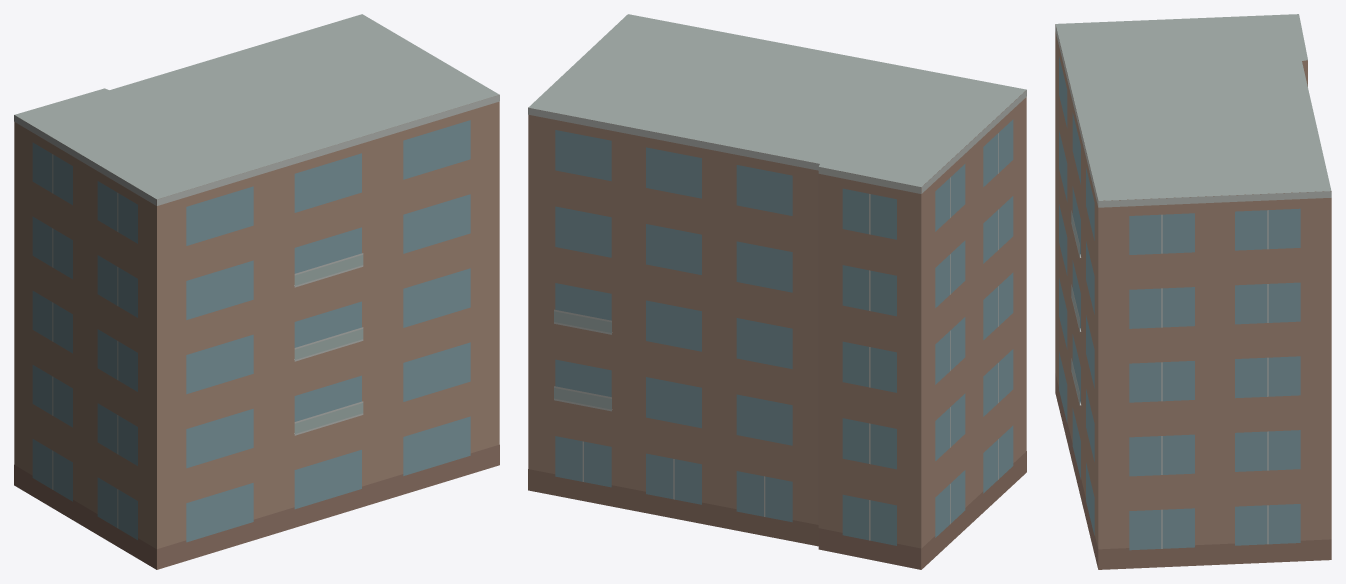
Rendered from survey-upis-32468947.glb.
3 renders of one model, left to right at view 1: azimuth 30°, elevation 25°; view 2: azimuth 150°, elevation 25°; view 3: azimuth 270°, elevation 25°, orthographic. The views are drawn at different scales.
Visible parts, largest first — view 1: survey-upis-32468947.tmp; view 2: survey-upis-32468947.tmp; view 3: survey-upis-32468947.tmp.
Boxes of the visible parts, x1,y1,x2,y2 form: survey-upis-32468947.tmp: [14, 14, 499, 569]; survey-upis-32468947.tmp: [528, 14, 1026, 569]; survey-upis-32468947.tmp: [1055, 14, 1331, 569].
Size of the model in its own units: 14.52 by 13.35 by 9.07.
